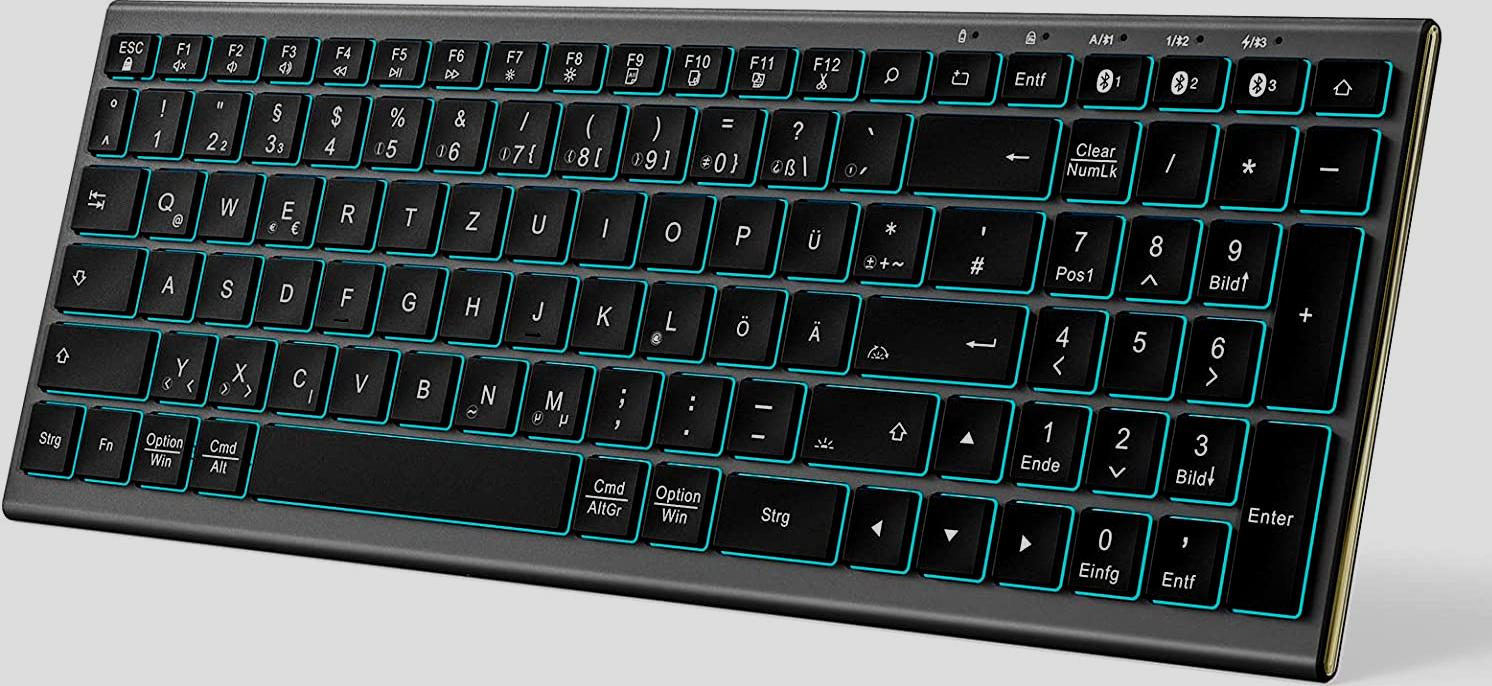0: (687, 99, 760, 181)
1: (127, 82, 186, 153)
2: (182, 84, 242, 157)
3: (240, 85, 303, 159)
4: (300, 89, 363, 162)
5: (361, 89, 426, 167)
6: (424, 92, 489, 169)
7: (487, 92, 555, 172)
8: (551, 96, 620, 176)
9: (617, 97, 689, 178)
a: (136, 242, 196, 316)
accent: (831, 104, 905, 186)
ae: (777, 283, 853, 368)
alt-left: (187, 412, 251, 493)
altgr-right: (569, 450, 644, 538)
b: (386, 344, 456, 423)
c: (263, 335, 330, 411)
caret: (85, 85, 131, 153)
comma: (583, 360, 656, 442)
d: (252, 250, 316, 327)
del: (904, 106, 1055, 193)
e: (253, 166, 316, 242)
enter: (852, 289, 1028, 381)
f: (312, 253, 376, 330)
g: (374, 259, 439, 336)
h: (437, 262, 504, 340)
hash: (924, 199, 1039, 287)
i: (567, 181, 637, 261)
j: (502, 265, 572, 347)
k: (568, 269, 638, 351)
keyboard: (5, 1, 1454, 686)
l: (637, 274, 707, 357)
m: (516, 354, 588, 438)
minus: (722, 371, 798, 456)
n: (451, 349, 522, 430)
o: (634, 186, 706, 267)
oe: (707, 281, 779, 363)
p: (705, 188, 777, 271)
plus: (850, 196, 926, 279)
point: (652, 367, 727, 448)
q: (136, 161, 198, 236)
r: (313, 170, 377, 247)
s: (193, 247, 254, 321)
shift-left: (35, 317, 151, 394)
shift-lock: (51, 239, 138, 312)
shift-right: (797, 378, 937, 470)
space: (249, 420, 579, 537)
ss: (757, 102, 831, 185)
strg-left: (18, 399, 80, 474)
strg-right: (710, 469, 847, 561)
t: (374, 173, 439, 249)
tab: (67, 160, 140, 231)
u: (501, 179, 572, 258)
ue: (776, 192, 851, 275)
v: (324, 339, 393, 417)
w: (195, 163, 256, 238)
x: (205, 330, 269, 405)
y: (147, 325, 209, 400)
z: (437, 175, 505, 254)
